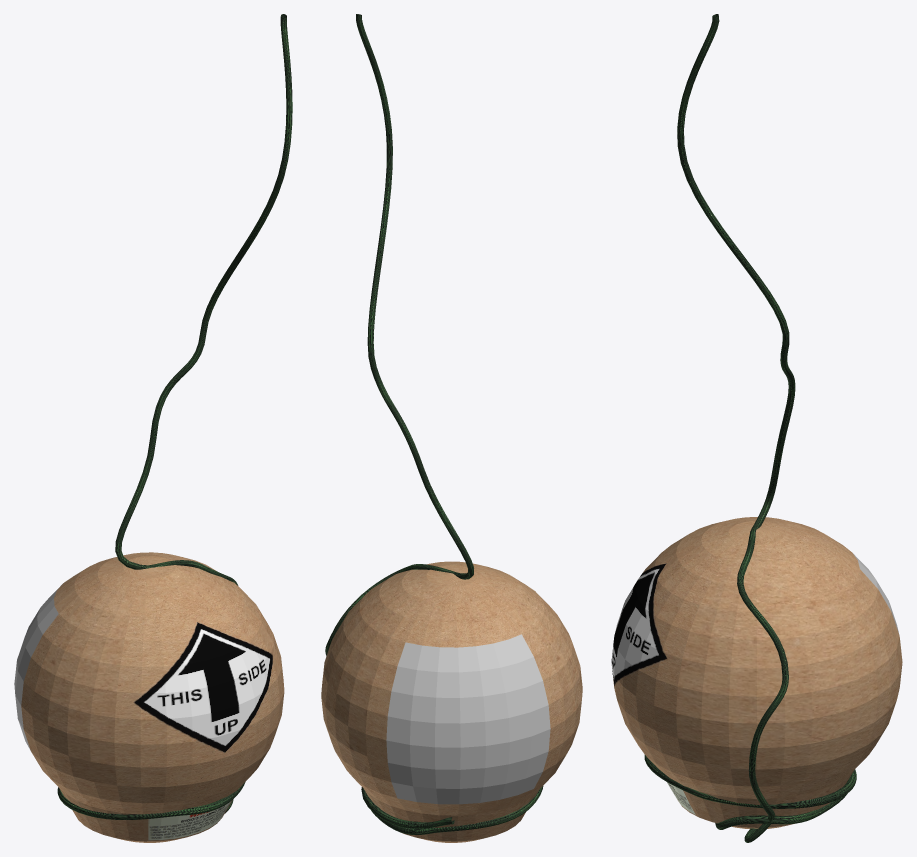
The model's file is Godfather.fbx.
3 renders of one model, left to right at view 1: azimuth 30°, elevation 25°; view 2: azimuth 150°, elevation 25°; view 3: azimuth 270°, elevation 25°, orthographic. The views are drawn at different scales.
Visible parts, largest first — view 1: Sphere, BezierCurve.002, BezierCurve; view 2: Sphere, BezierCurve.002, BezierCurve, BezierCurve.001; view 3: Sphere, BezierCurve.002, BezierCurve.001, BezierCurve.
Boxes of the visible parts, x1,y1,x2,y2 form: Sphere: [14, 552, 284, 842]; BezierCurve.002: [115, 14, 292, 569]; BezierCurve: [57, 782, 245, 819]; Sphere: [321, 561, 582, 842]; BezierCurve.002: [356, 14, 473, 579]; BezierCurve: [361, 786, 543, 834]; BezierCurve.001: [325, 564, 455, 655]; Sphere: [611, 517, 902, 828]; BezierCurve.002: [677, 14, 795, 532]; BezierCurve.001: [737, 528, 788, 842]; BezierCurve: [644, 755, 856, 829].
Size of the model in its own units: 26.97 by 85.73 by 26.25.
